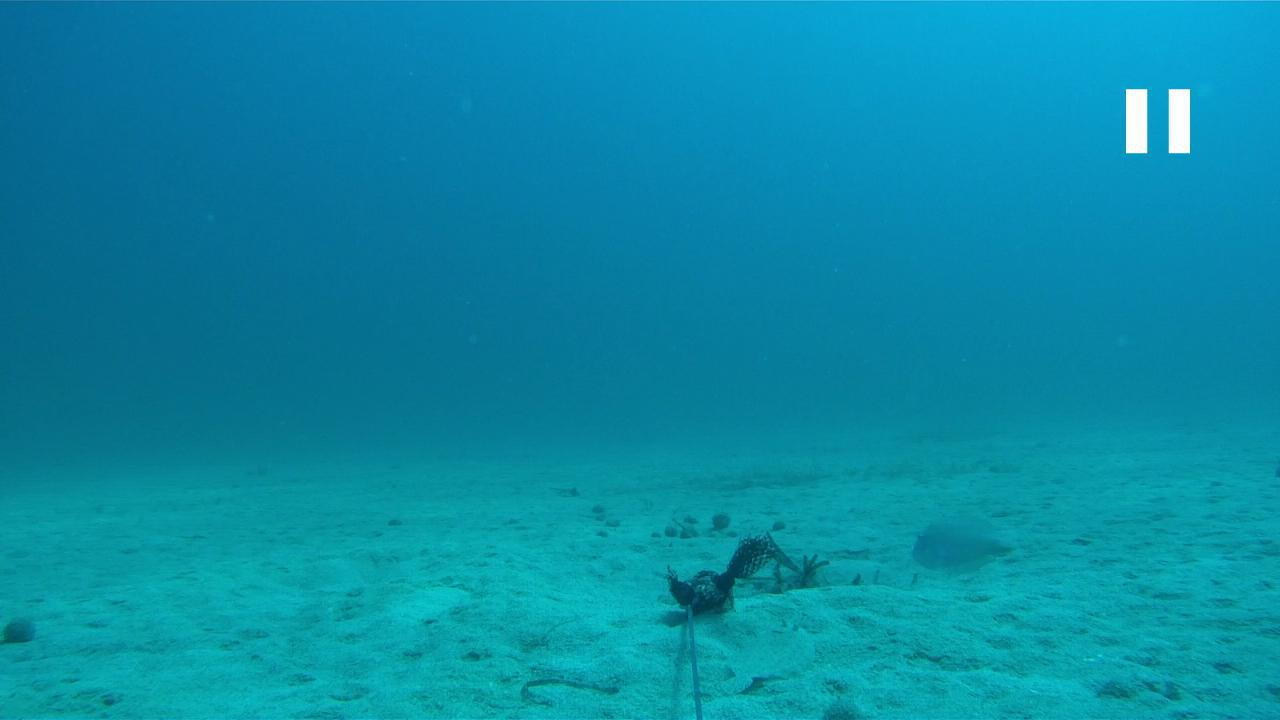bothus: (717, 626, 819, 692)
